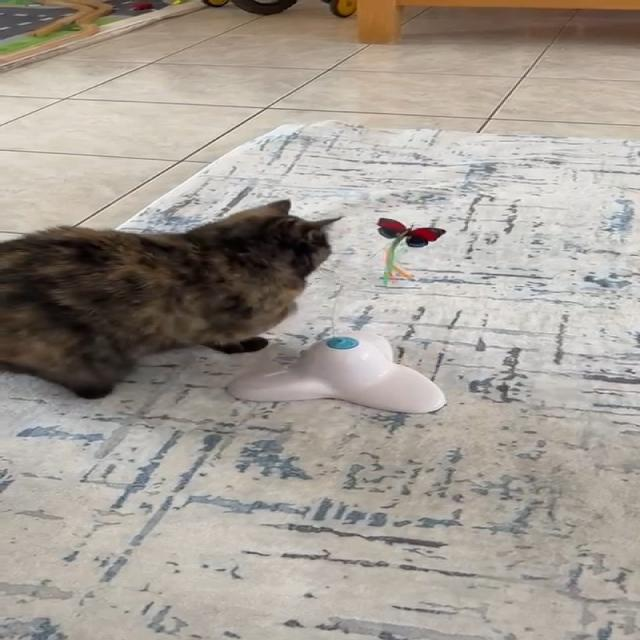authorized: (0, 198, 344, 399)
